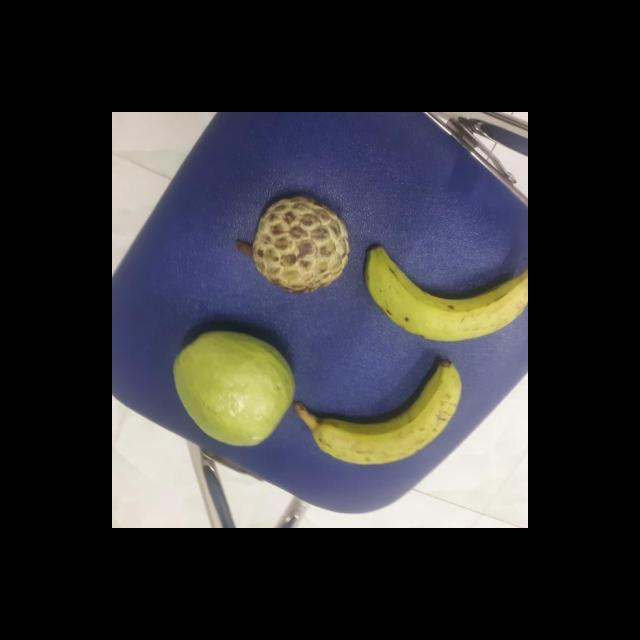Sakya fruit: (240, 197, 346, 293)
banana: (290, 354, 458, 466), (360, 248, 528, 342)
guava: (168, 330, 296, 444)
